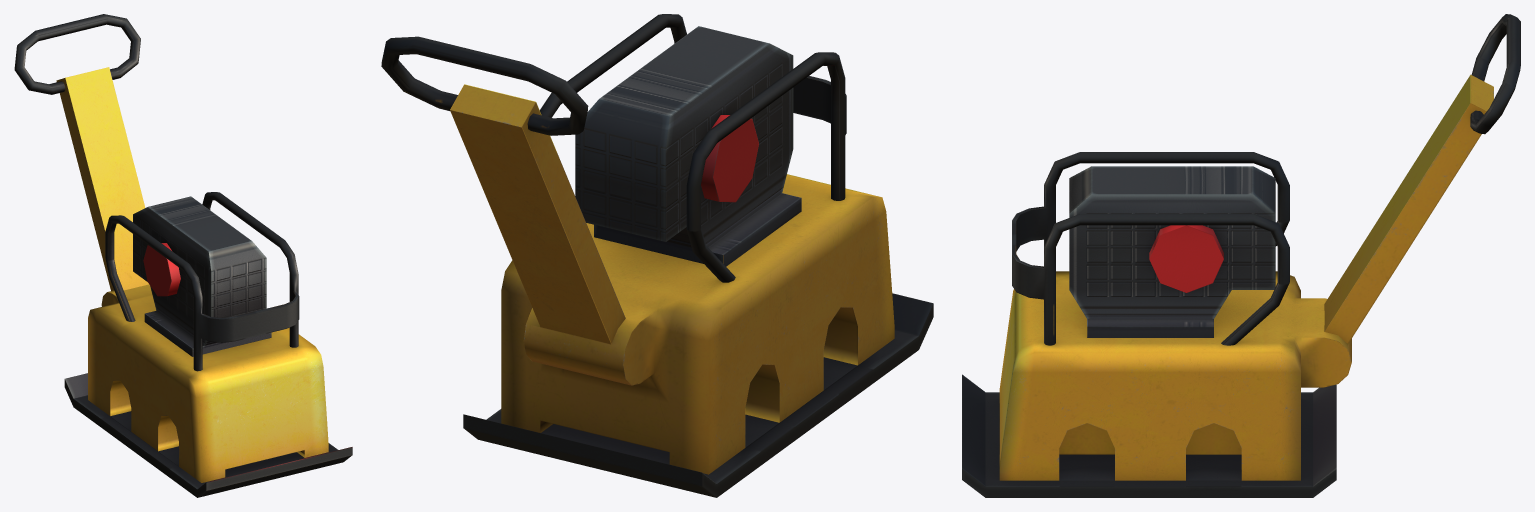
The model's file is eq_Compacter.fbx.
3 views of the same model, side by side, from view 1: azimuth 30°, elevation 25°; view 2: azimuth 150°, elevation 25°; view 3: azimuth 270°, elevation 25° (orthographic). The views are drawn at different scales.
Parts seen in each view (by area): view 1: Compactor1; view 2: Compactor1; view 3: Compactor1.
Part boxes in pixels (x1,y1,x2,y2): Compactor1: (14,14,352,497); Compactor1: (381,14,933,497); Compactor1: (962,14,1520,497).
Size of the model in its own units: 0.5786 by 1.18 by 1.45.
